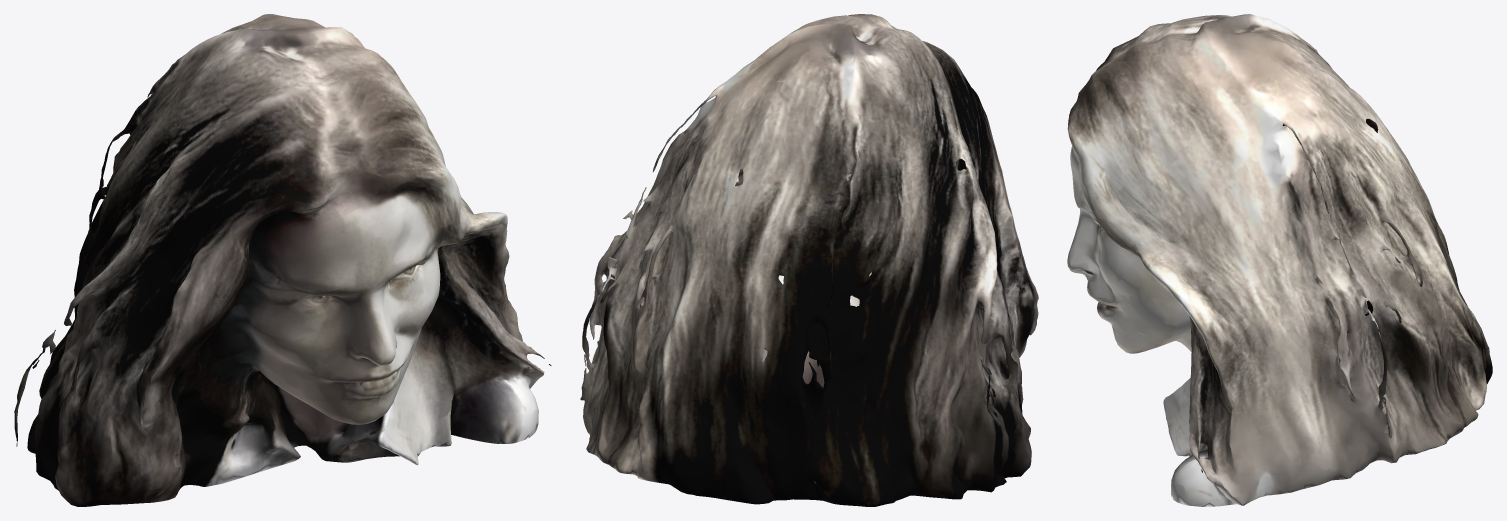
The model's file is barbara-bach-face.glb.
3 views of the same model, side by side, from view 1: azimuth 30°, elevation 25°; view 2: azimuth 150°, elevation 25°; view 3: azimuth 270°, elevation 25° (orthographic). The views are drawn at different scales.
Visible parts, largest first — view 1: BarbaraBachFace; view 2: BarbaraBachFace; view 3: BarbaraBachFace.
Part boxes in pixels (x1,y1,x2,y2): BarbaraBachFace: [14, 14, 551, 506]; BarbaraBachFace: [580, 14, 1038, 506]; BarbaraBachFace: [1067, 14, 1492, 506].
Bounding box in the file's own units: 0.3582 × 0.3151 × 0.3128.
Materials: 1 (1 with a texture image).
